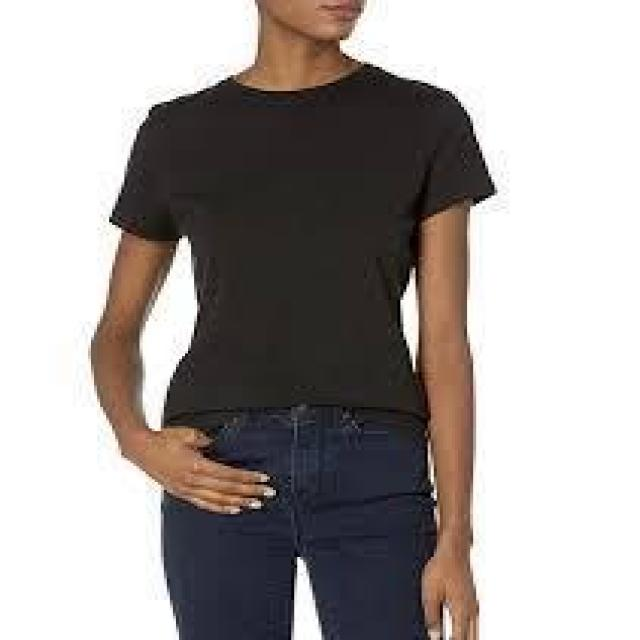Tshirt: (68, 44, 536, 419)
